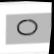no answer: (13, 16, 42, 40)
